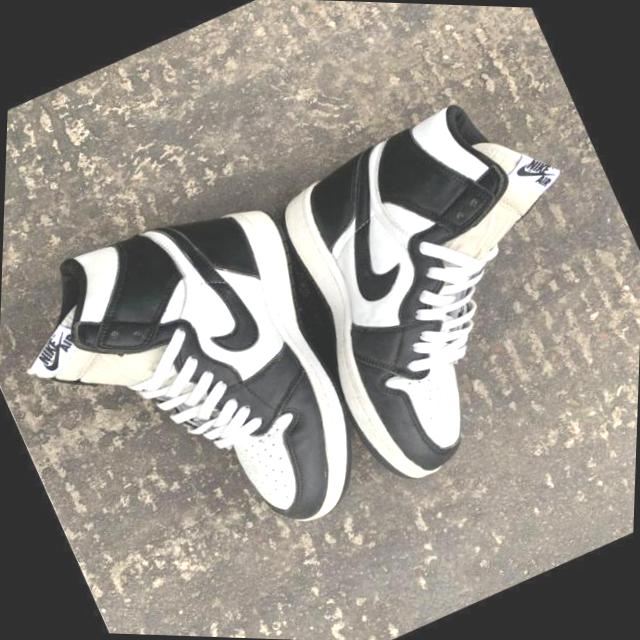nike_fake_jordan: (0, 160, 408, 614), (236, 61, 640, 506)
